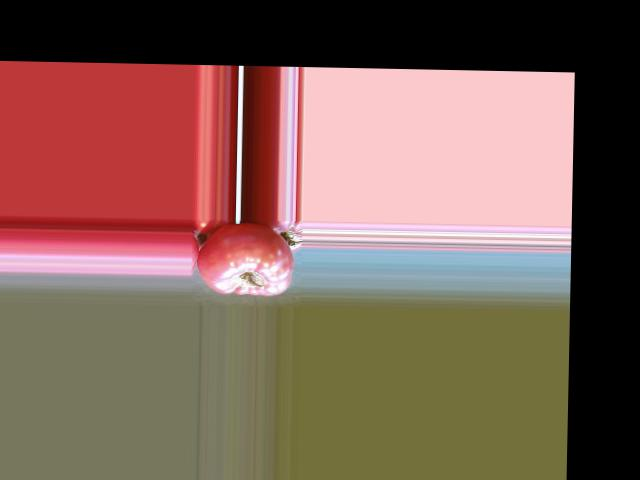tomato: (194, 222, 294, 296)
